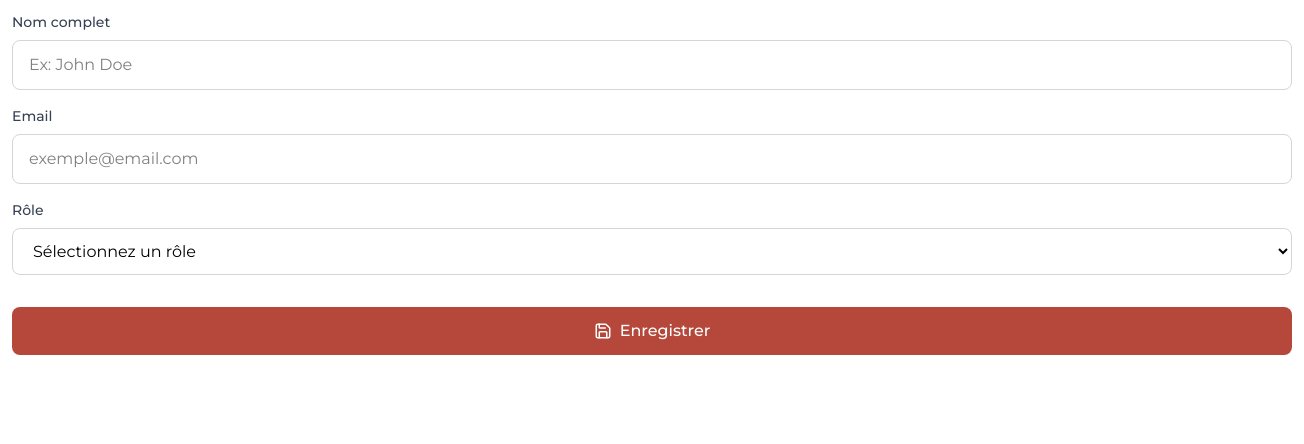
Test: UserForm - RHF + Yup validation › affiche les erreurs si le formulaire est vide et soumis
Click the button "Enregistrer".
click(652, 331)  # box x1=12 y1=307 x2=1292 y2=355
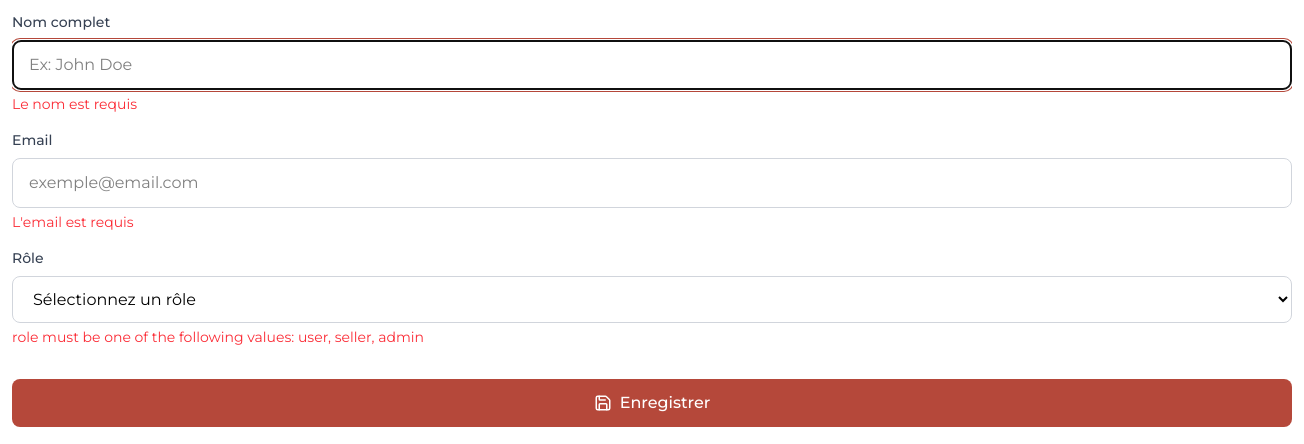
Check: the text "Le nom est requis" is shown, box x1=12 y1=95 x2=137 y2=113
Check: the text "L'email est requis" is shown, box x1=12 y1=213 x2=134 y2=231
Check: the text "role must be one of the following values: user, seller, admin" is shown, box x1=12 y1=328 x2=424 y2=346
